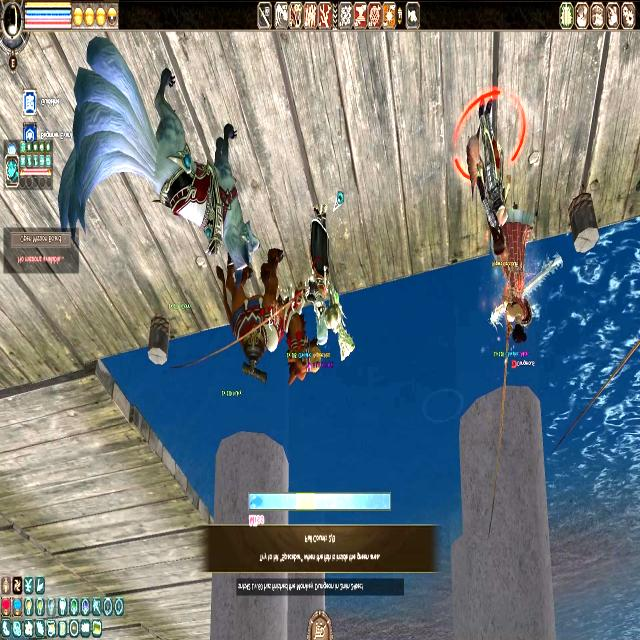fishes: (249, 494, 263, 508)
